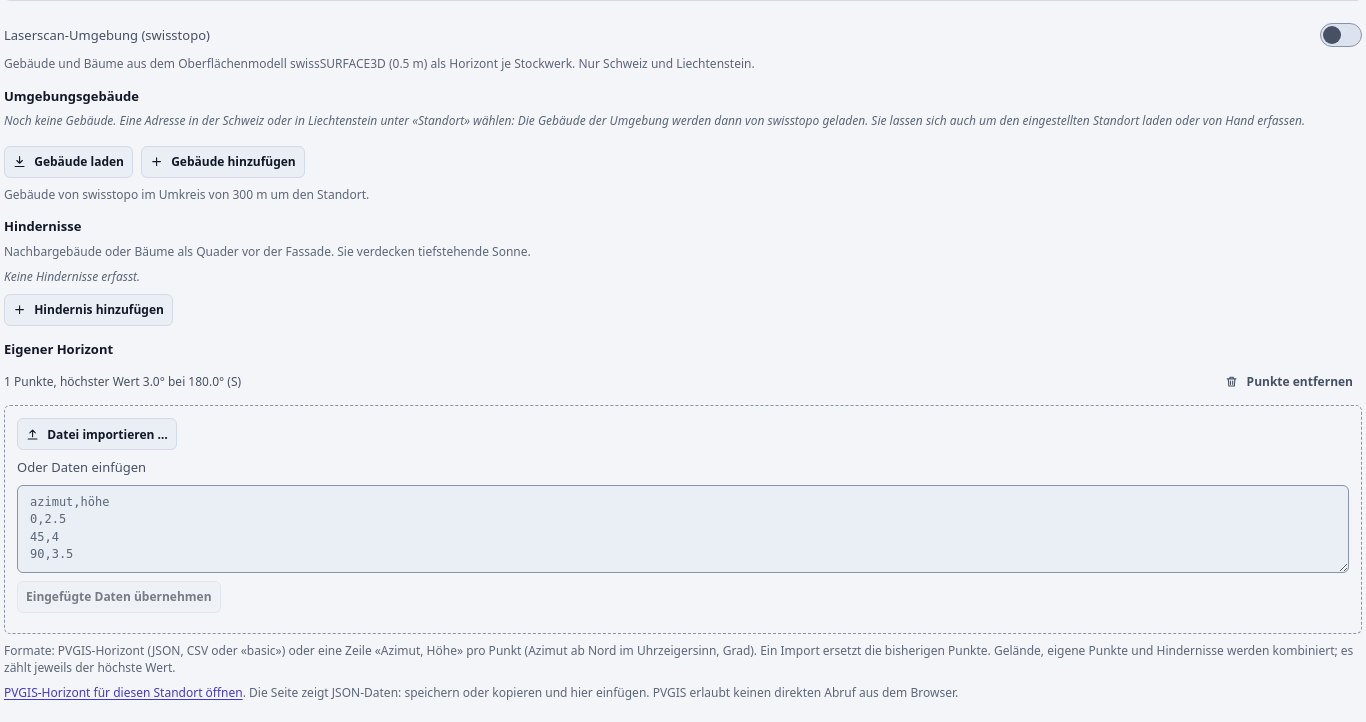
Scenario: HorizonSection › custom horizon import › rejects text without horizon points and clears existing points
The width and height of the screenshot is (1366, 722).
(page scrolled)
Type "hello world" into the text box labelled "Oder Daten einfügen" at (683, 529), box x1=17 y1=485 x2=1349 y2=573
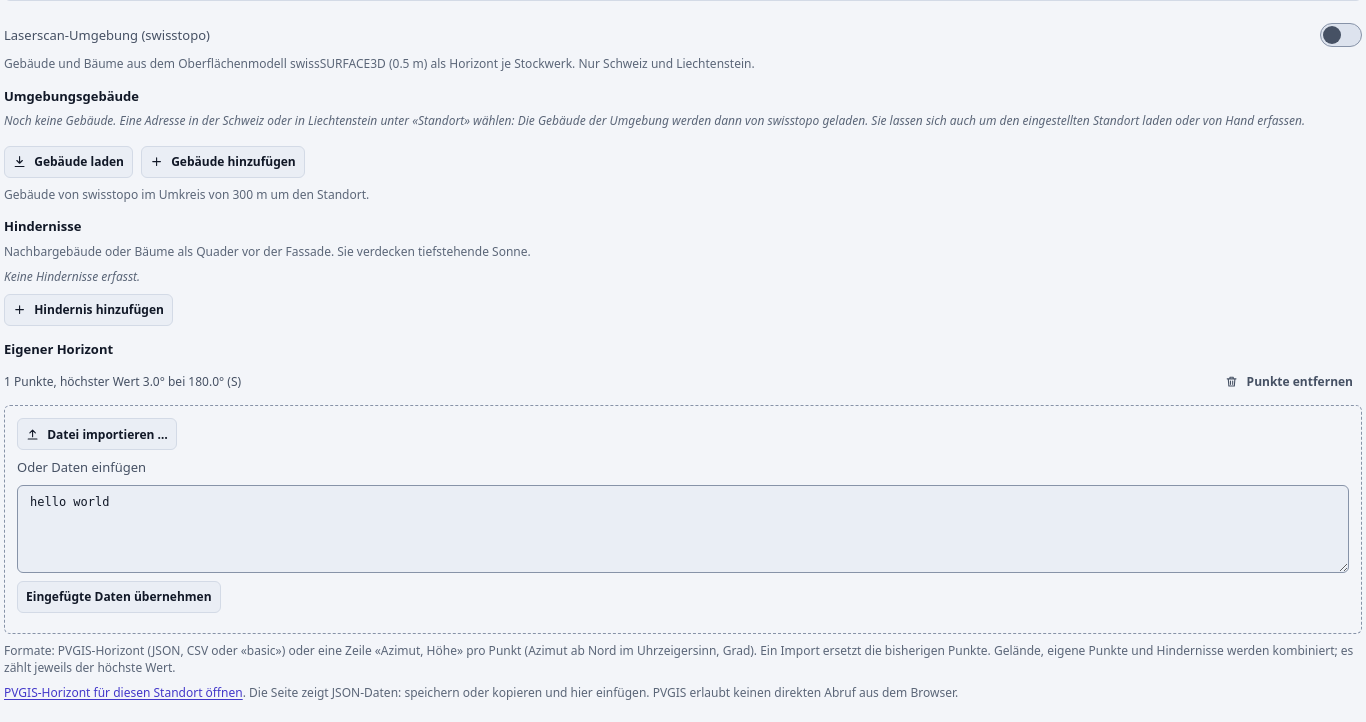
Click the button "Eingefügte Daten übernehmen" at (119, 597), box x1=17 y1=581 x2=221 y2=613
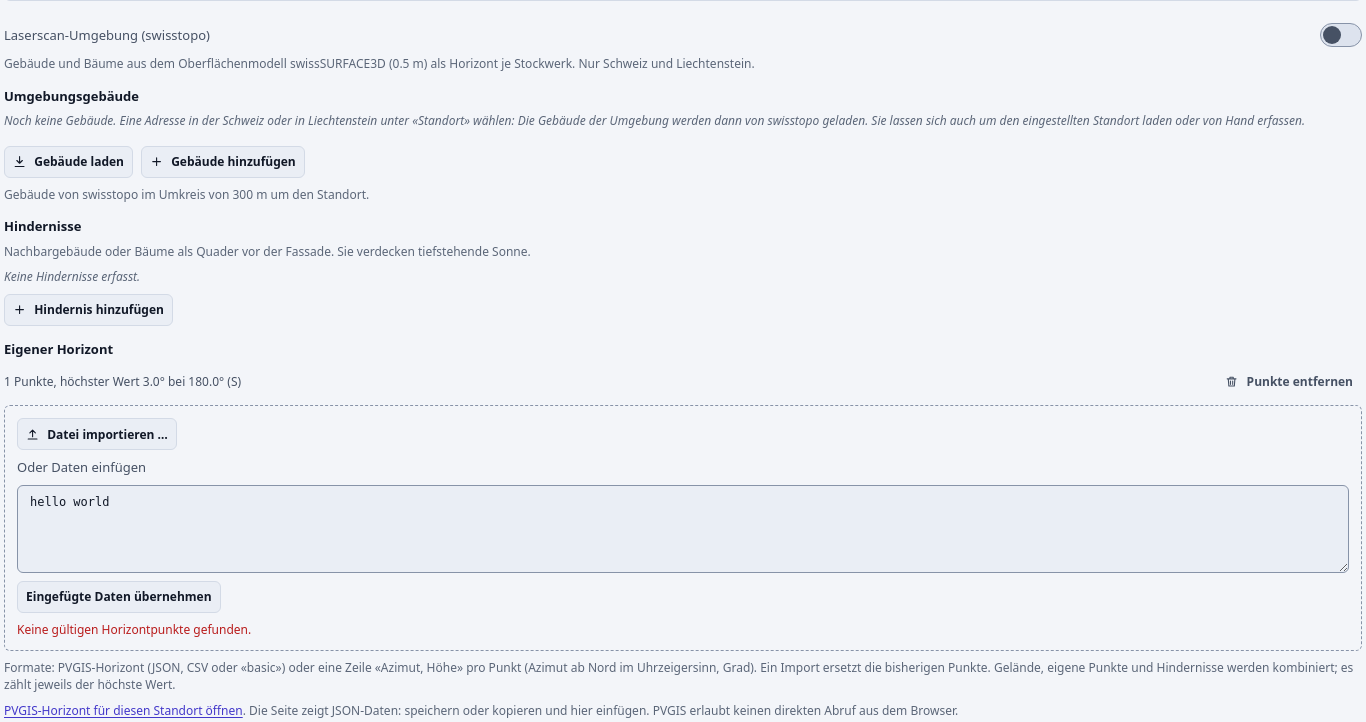
Now the text "Keine gültigen Horizontpunkte gefunden." is shown, box x1=17 y1=621 x2=251 y2=638
Click the button "Punkte entfernen" at (1289, 381), box x1=1216 y1=365 x2=1362 y2=397
(page scrolled)
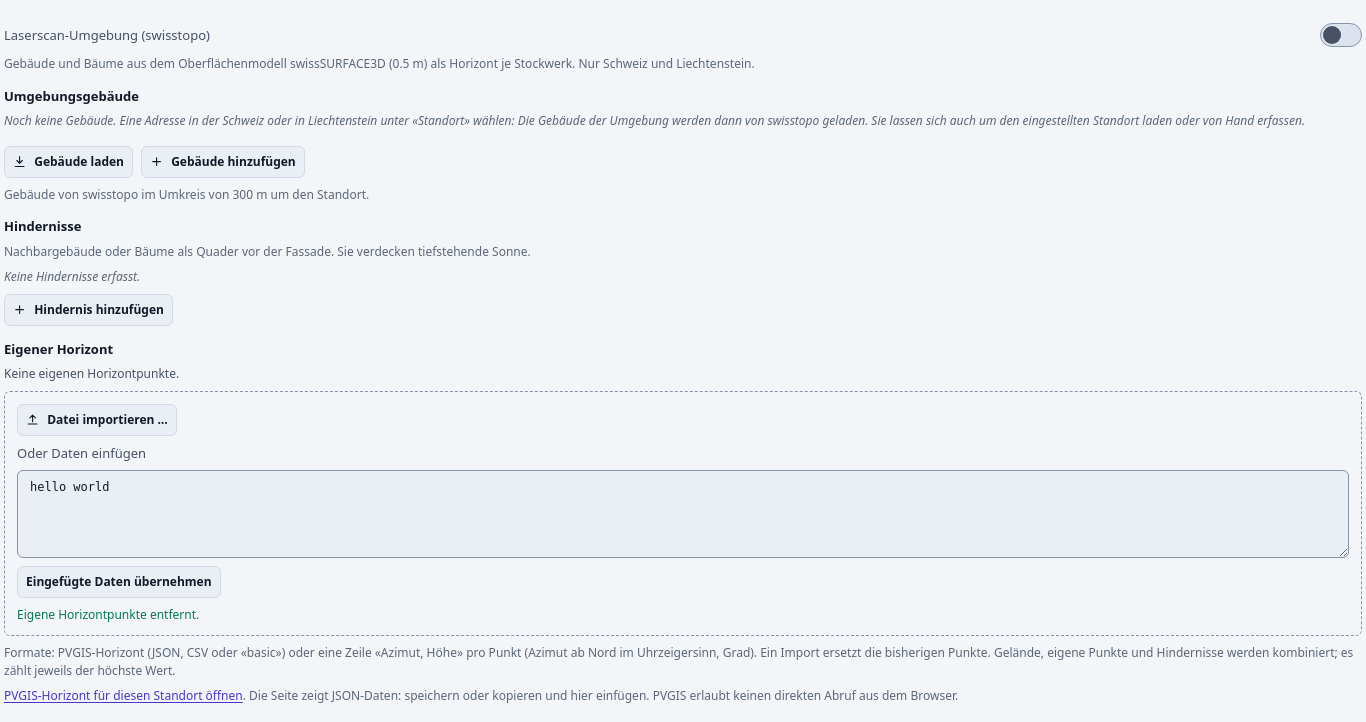
Now the text "Keine eigenen Horizontpunkte." is shown, box x1=4 y1=365 x2=179 y2=382
